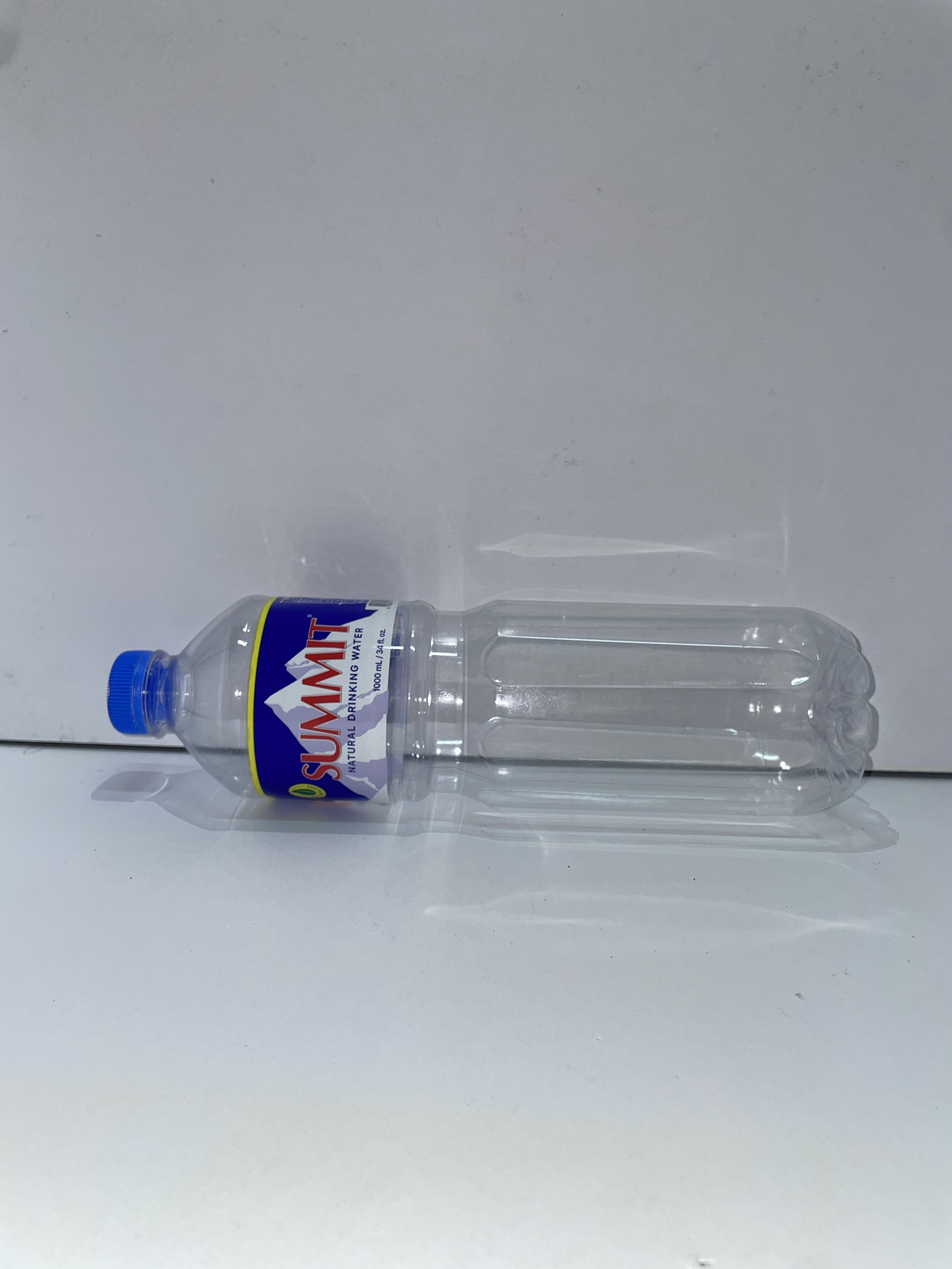Summit 1000ml: (107, 596, 877, 814)
